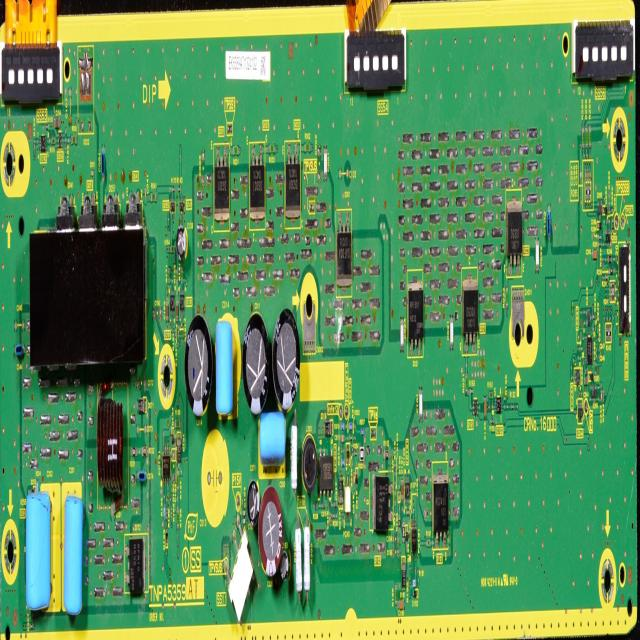Capacitor Jumper: (26, 492, 54, 613), (62, 489, 85, 624), (241, 318, 272, 415), (273, 310, 300, 413), (215, 314, 238, 426), (258, 486, 284, 579), (258, 410, 287, 479), (258, 407, 284, 474), (245, 477, 262, 536), (175, 224, 190, 266), (416, 381, 425, 422), (13, 337, 26, 363), (200, 148, 207, 192), (448, 313, 455, 357), (322, 144, 330, 179), (400, 314, 406, 358), (482, 395, 490, 426), (535, 239, 541, 276), (400, 478, 406, 504), (53, 113, 62, 128), (592, 244, 599, 262), (605, 231, 612, 246), (398, 597, 405, 612), (165, 300, 169, 324), (339, 432, 346, 444), (144, 183, 148, 203), (328, 509, 332, 529), (90, 167, 96, 180), (176, 297, 179, 323), (353, 468, 356, 494), (586, 168, 590, 182), (322, 500, 327, 510), (584, 376, 588, 388), (408, 530, 411, 545), (334, 500, 338, 510), (584, 165, 586, 182), (600, 390, 602, 406), (584, 369, 589, 375), (590, 169, 592, 182)
Connector: (567, 14, 640, 105), (342, 23, 416, 112), (1, 36, 64, 101)
IC: (317, 454, 335, 495), (576, 396, 585, 431), (39, 130, 47, 160), (586, 337, 594, 366), (572, 367, 582, 387), (495, 394, 503, 417)
Resistor Jumper: (292, 523, 304, 596), (290, 418, 300, 496), (302, 526, 312, 594), (504, 281, 511, 318), (584, 183, 593, 206), (610, 282, 617, 308), (72, 130, 80, 152), (304, 135, 312, 154), (130, 446, 139, 462), (233, 142, 240, 162), (606, 322, 612, 345), (176, 505, 181, 531), (488, 383, 495, 401), (51, 134, 57, 153), (384, 448, 392, 462), (465, 369, 469, 395), (359, 448, 365, 465), (175, 416, 182, 430), (333, 510, 340, 524), (588, 125, 592, 149), (177, 470, 181, 494), (582, 127, 586, 150), (142, 441, 148, 456), (402, 521, 406, 542), (393, 490, 397, 510), (395, 584, 398, 610), (360, 426, 366, 438), (426, 538, 432, 550), (312, 501, 318, 512), (163, 500, 166, 522), (608, 252, 613, 265), (36, 478, 40, 494), (167, 265, 170, 285), (348, 420, 354, 430), (398, 515, 401, 534), (341, 458, 346, 469), (609, 266, 615, 275), (394, 460, 397, 478), (166, 506, 169, 524), (586, 125, 588, 151), (340, 421, 345, 431), (353, 447, 358, 457), (44, 122, 50, 130), (174, 326, 177, 342), (470, 387, 476, 395), (349, 434, 354, 443), (406, 524, 408, 546), (598, 240, 603, 248), (170, 246, 174, 256), (406, 506, 410, 516), (176, 268, 178, 287), (181, 267, 183, 285), (510, 403, 514, 412), (612, 218, 614, 234), (592, 314, 596, 322), (178, 326, 180, 342), (409, 576, 411, 592), (602, 390, 604, 404), (602, 257, 604, 270), (504, 389, 506, 402), (352, 444, 354, 457), (598, 233, 602, 239), (608, 201, 610, 212)
Transistor: (183, 315, 214, 418), (279, 142, 304, 238), (212, 137, 232, 239), (248, 137, 268, 225), (431, 468, 452, 549), (372, 468, 394, 536), (505, 196, 524, 270), (462, 286, 479, 343), (56, 129, 64, 153), (472, 394, 478, 423), (180, 291, 186, 318), (179, 195, 186, 218), (170, 290, 174, 318), (170, 198, 176, 216)
